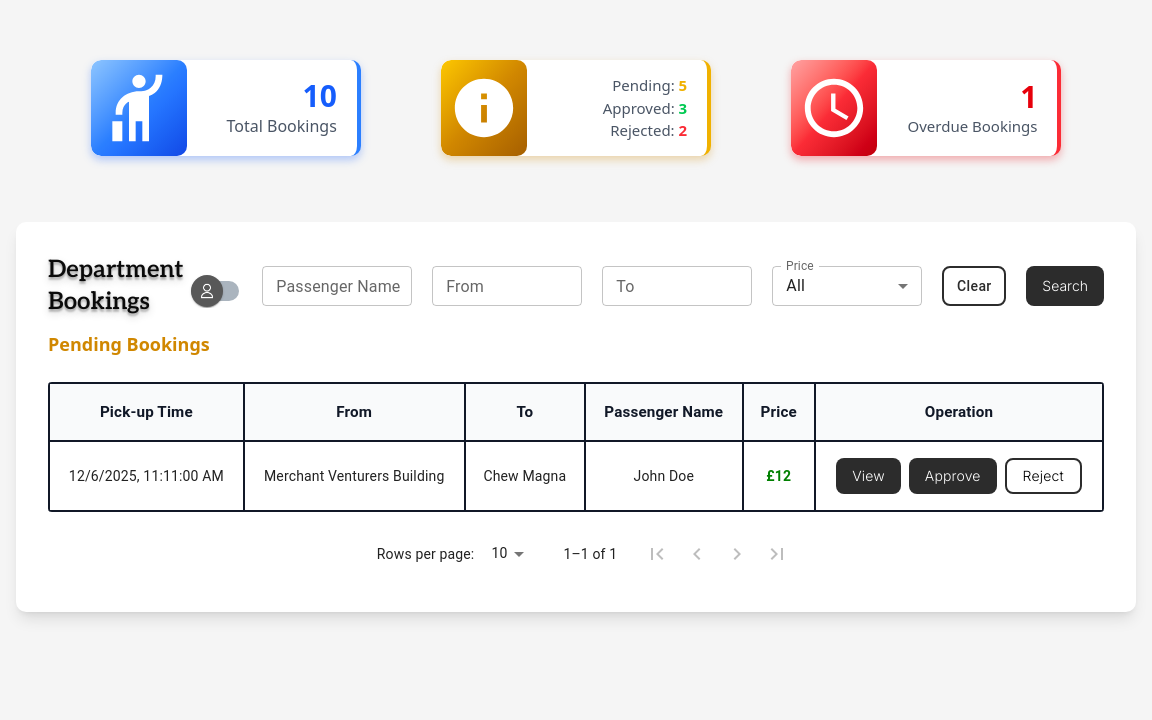
it: Approve and Reject actions › cancelling rejection closes the dialog
Click the button "Reject". click: [1043, 476]
box: [1005,458,1082,494]
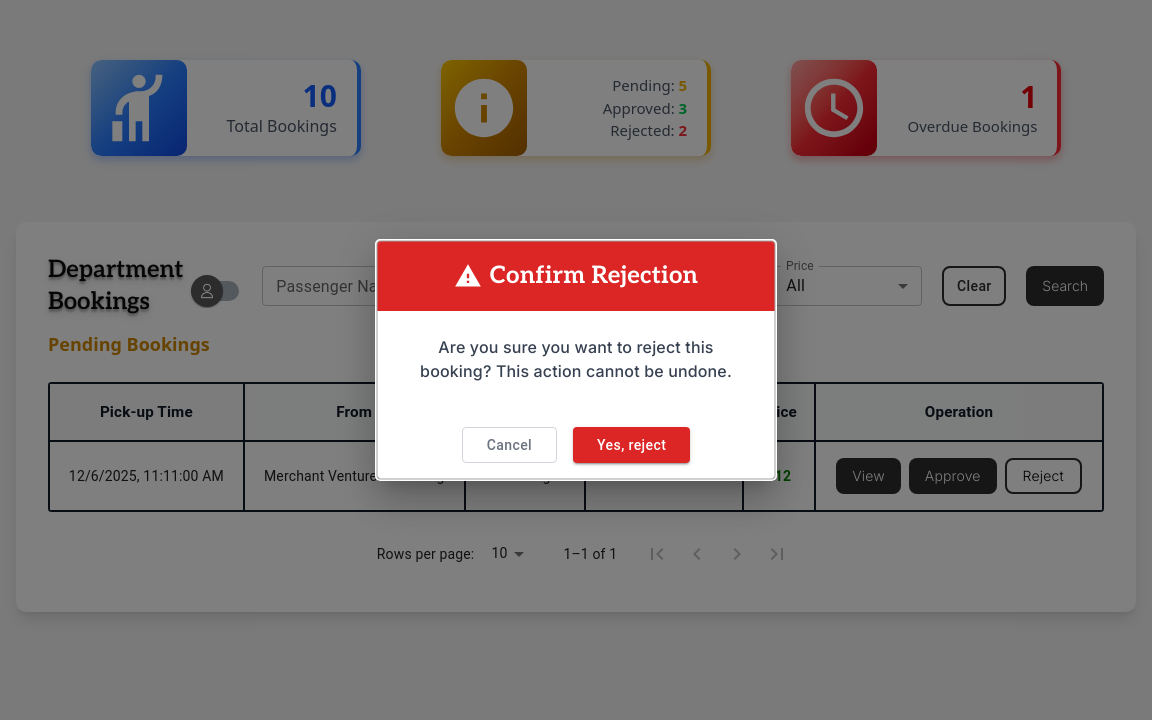
Check: the button "Cancel" is shown
Click the button "Cancel". click: [509, 445]
box: [462,427,557,463]
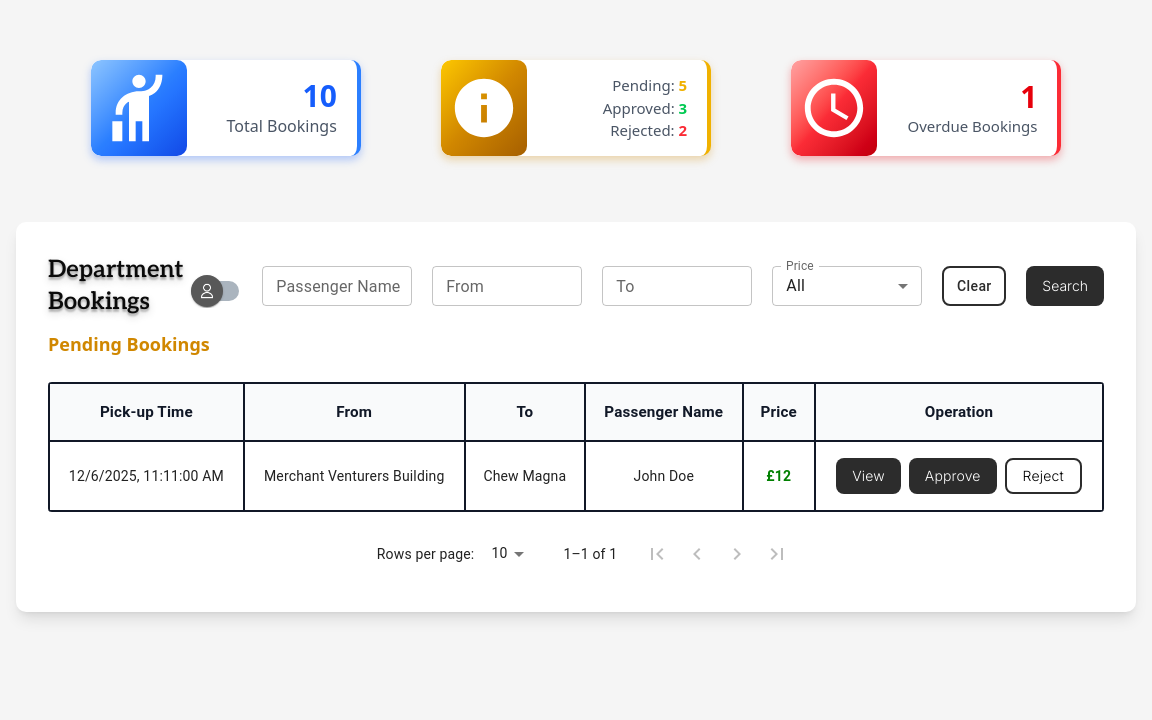
Check: the heading "Confirm Rejection" is gone
